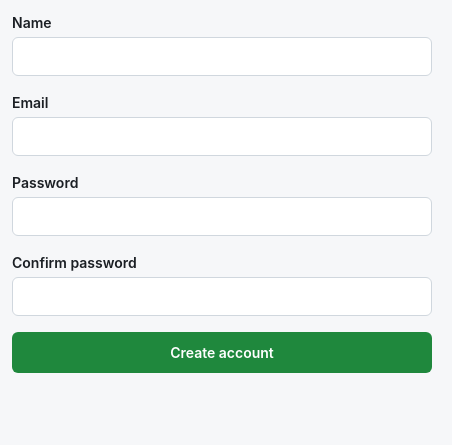
Test: shows a server error in an alert, re-enables the button and keeps the values
In the field labelled "Name": (222, 56) [12,37,432,76], type "  Ada  "
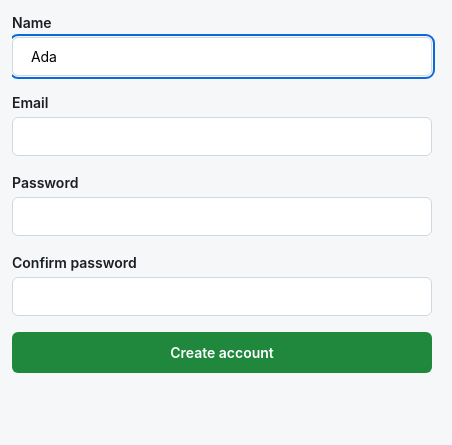
In the field labelled "Email": (222, 136) [12,117,432,156], type " ada@example.com "
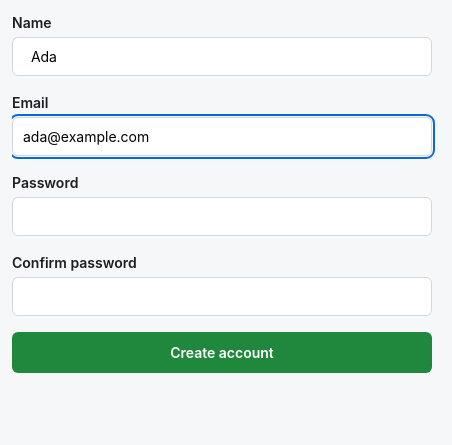
In the password field labelled "Password": (222, 216) [12,197,432,236], type "password1"
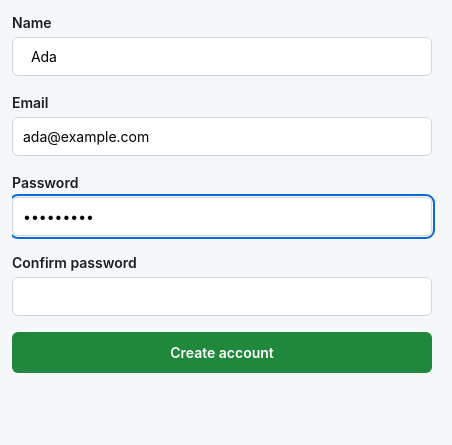
In the password field labelled "Confirm password": (222, 296) [12,277,432,316], type "password1"
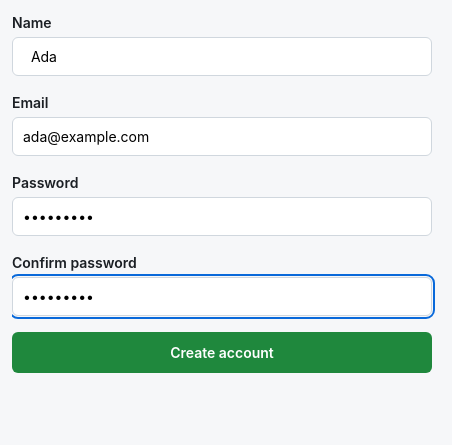
Click the button "Create account": (222, 352) [12,332,432,373]
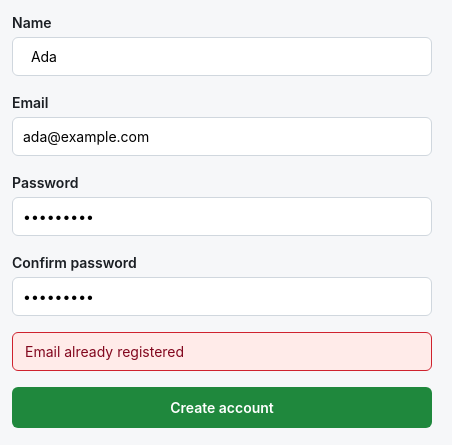
Expected: the button "Create account" is enabled, [12,387,432,428]
Expected: the message reads "Email already registered", [25,343,184,360]
